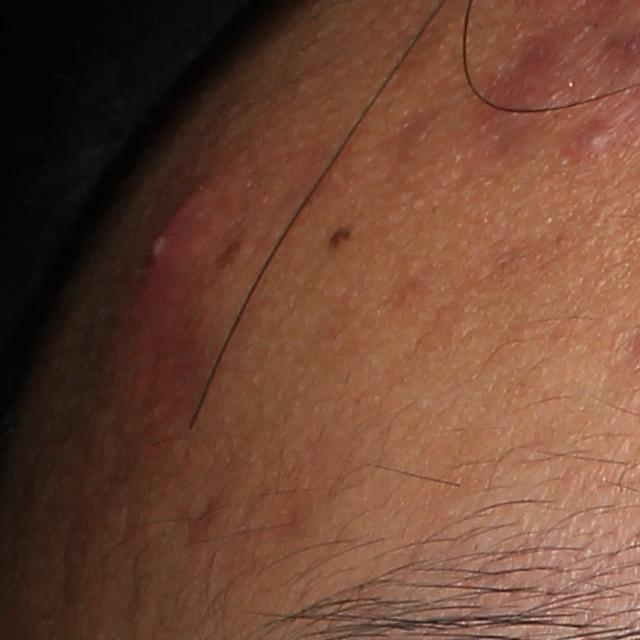nevus: (324, 216, 352, 244)
papule: (575, 114, 619, 163)
